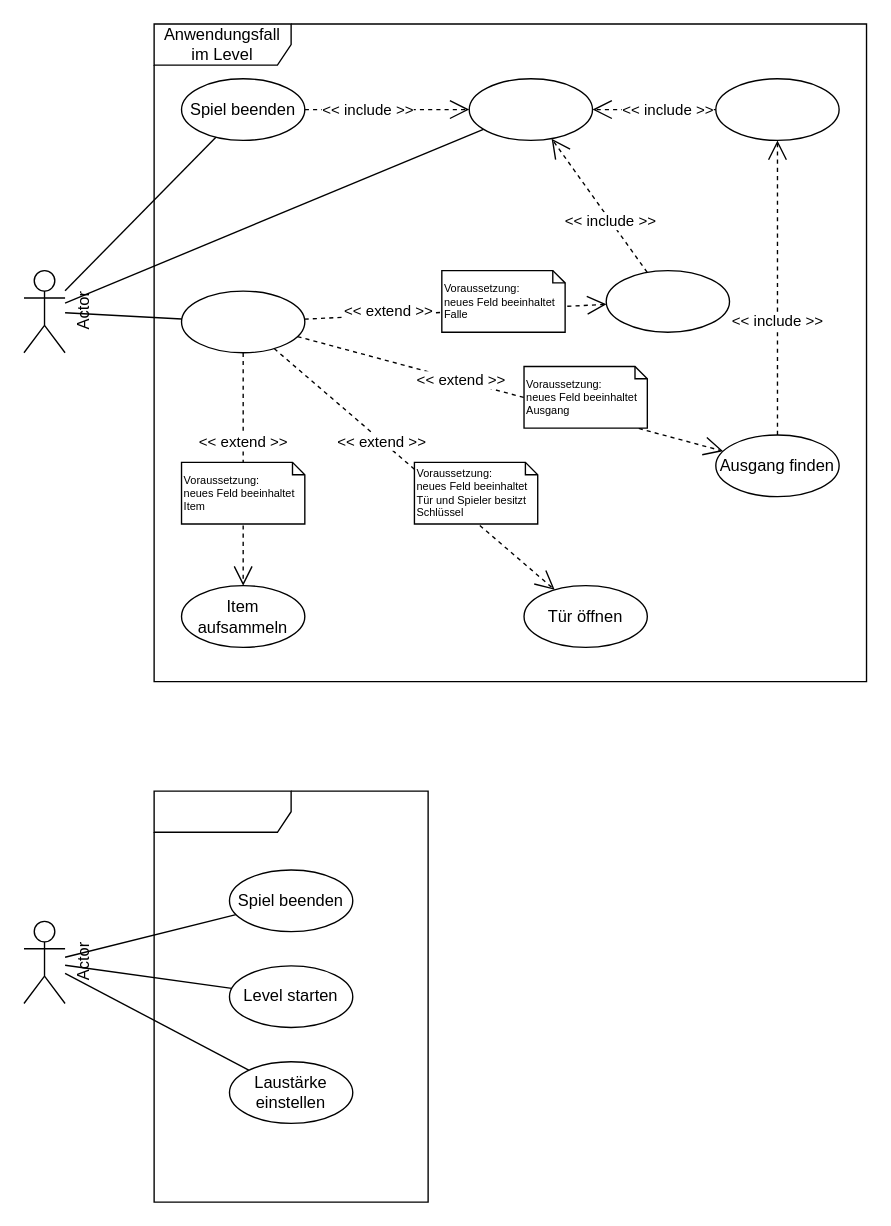
Image size: 891x1226. Some labels were removed from this diagram. The box of each missing label's shape, as (x1, y1, x2, y2) in pixels:
Anwendungsfall im Menü: (153, 790, 428, 1202)
Level beenden: (468, 77, 593, 140)
Level gewinnen: (714, 77, 839, 140)
Spieler bewegen: (180, 290, 305, 353)
sterben: (605, 269, 730, 332)
